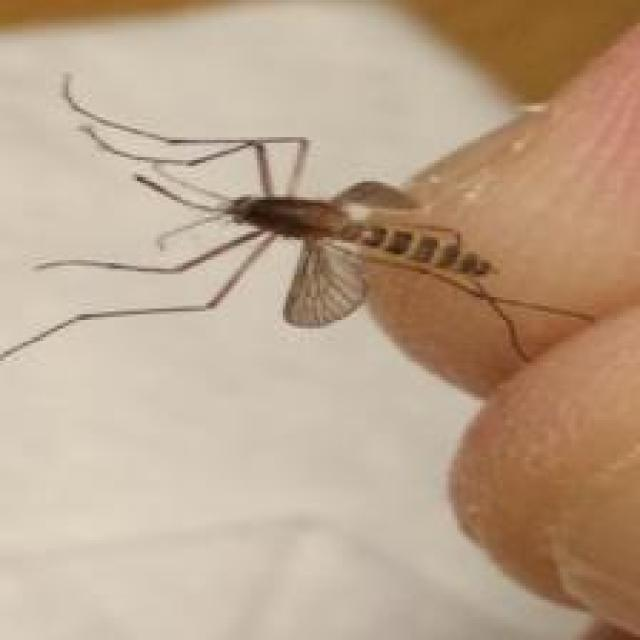Culex: (0, 70, 597, 399)
